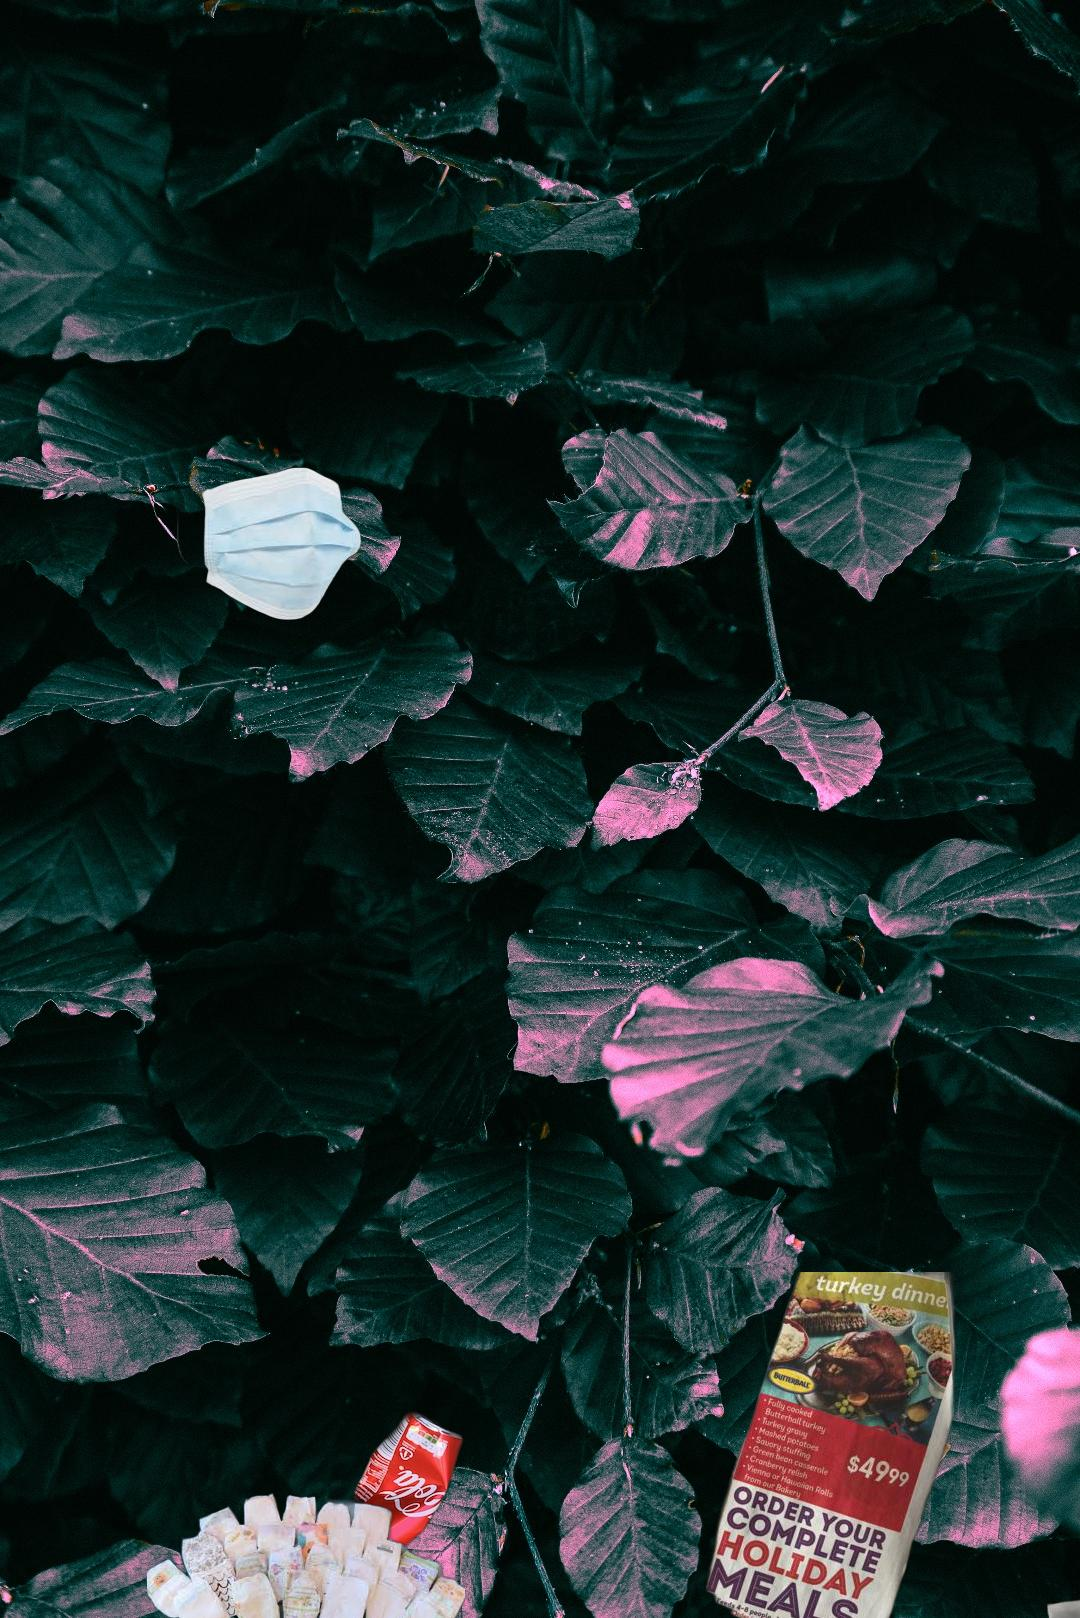metal-cans: (339, 1406, 466, 1567)
paper: (481, 1272, 967, 1618)
paper-bag: (791, 1318, 955, 1472), (1037, 1454, 1080, 1618)
trash: (147, 1489, 465, 1618), (174, 465, 364, 623)
trashbox-cardboard: (708, 1292, 1080, 1618)
